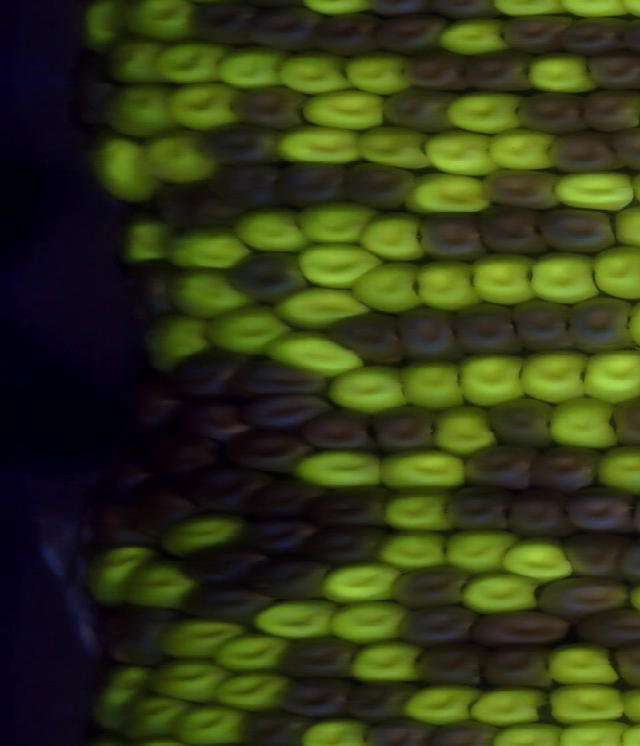fluorescent: (258, 327, 371, 383), (135, 123, 226, 190), (416, 124, 510, 186), (265, 282, 374, 335), (140, 647, 232, 708), (538, 635, 634, 693), (320, 361, 415, 419), (163, 262, 256, 321), (200, 301, 293, 360), (84, 136, 164, 204), (463, 247, 546, 312), (373, 441, 471, 496), (152, 506, 248, 562), (294, 238, 392, 292), (522, 246, 606, 309), (114, 554, 202, 614), (451, 348, 532, 413), (227, 206, 322, 261), (163, 75, 248, 136), (437, 86, 531, 141), (346, 255, 426, 319), (392, 353, 472, 416), (291, 195, 382, 250), (410, 253, 487, 318), (160, 223, 256, 275), (543, 391, 621, 455), (403, 166, 493, 221), (298, 85, 393, 137), (157, 616, 252, 668), (288, 443, 388, 492), (78, 539, 147, 610), (136, 311, 215, 373), (104, 82, 184, 143), (459, 681, 554, 732), (427, 399, 505, 461), (515, 342, 586, 410), (115, 686, 198, 744), (346, 632, 430, 689), (271, 118, 363, 170), (353, 207, 428, 270), (272, 47, 357, 102), (248, 594, 343, 643), (541, 677, 636, 726), (206, 627, 292, 681), (454, 566, 545, 617), (316, 558, 407, 609), (495, 531, 579, 586), (148, 36, 235, 89), (375, 484, 457, 540), (440, 525, 525, 579), (87, 655, 145, 734), (481, 124, 565, 178), (211, 665, 292, 721), (106, 1, 202, 48), (550, 167, 640, 217), (340, 46, 420, 102), (354, 121, 434, 177), (207, 42, 295, 92), (373, 522, 454, 576), (99, 31, 172, 90), (323, 597, 412, 645), (576, 343, 640, 409), (402, 678, 488, 727), (519, 49, 604, 98), (432, 11, 512, 62), (167, 700, 252, 746), (587, 240, 640, 305), (115, 217, 174, 272), (79, 1, 131, 62), (589, 439, 640, 501), (295, 713, 378, 746), (553, 717, 631, 746), (490, 717, 564, 746), (608, 202, 640, 255)
nonfluorescent: (97, 596, 184, 669), (534, 198, 625, 263), (325, 308, 416, 373), (409, 204, 498, 269), (221, 425, 320, 483), (533, 569, 636, 624), (183, 459, 282, 516), (130, 419, 225, 478), (560, 293, 640, 362), (177, 577, 279, 631), (66, 43, 127, 133), (221, 246, 310, 306), (469, 605, 577, 654), (165, 345, 255, 403), (473, 200, 557, 262), (229, 353, 332, 403), (170, 538, 273, 588), (117, 352, 176, 439), (391, 302, 468, 368), (85, 447, 179, 501), (269, 157, 358, 214), (449, 299, 528, 363), (559, 481, 640, 543), (381, 557, 472, 612), (502, 86, 592, 141), (436, 480, 519, 539), (525, 438, 605, 499), (112, 259, 187, 324), (339, 156, 420, 216), (203, 156, 286, 214), (301, 405, 383, 462), (240, 2, 328, 55), (483, 393, 560, 453), (249, 549, 333, 604), (88, 490, 160, 554), (411, 640, 494, 695), (478, 638, 558, 695), (270, 634, 366, 681), (304, 6, 386, 61), (368, 399, 447, 456), (297, 518, 387, 568), (232, 389, 335, 432), (372, 85, 457, 137), (223, 79, 308, 131), (463, 439, 540, 496), (507, 294, 575, 358), (503, 485, 578, 543), (235, 510, 322, 560), (274, 672, 354, 726), (557, 526, 631, 584), (194, 119, 281, 168), (369, 8, 449, 61), (302, 483, 396, 528), (245, 476, 332, 524), (394, 600, 481, 648), (478, 164, 561, 214), (552, 10, 633, 61), (460, 45, 537, 98), (183, 1, 263, 51), (492, 11, 575, 59), (545, 124, 621, 176), (177, 395, 257, 444), (340, 677, 418, 726), (574, 83, 640, 138), (234, 700, 311, 746), (398, 46, 470, 95), (574, 600, 640, 653), (179, 176, 241, 230), (584, 44, 640, 98), (357, 711, 443, 746), (420, 713, 501, 746), (147, 183, 199, 229), (607, 392, 640, 453), (608, 633, 640, 693), (607, 122, 640, 178)
